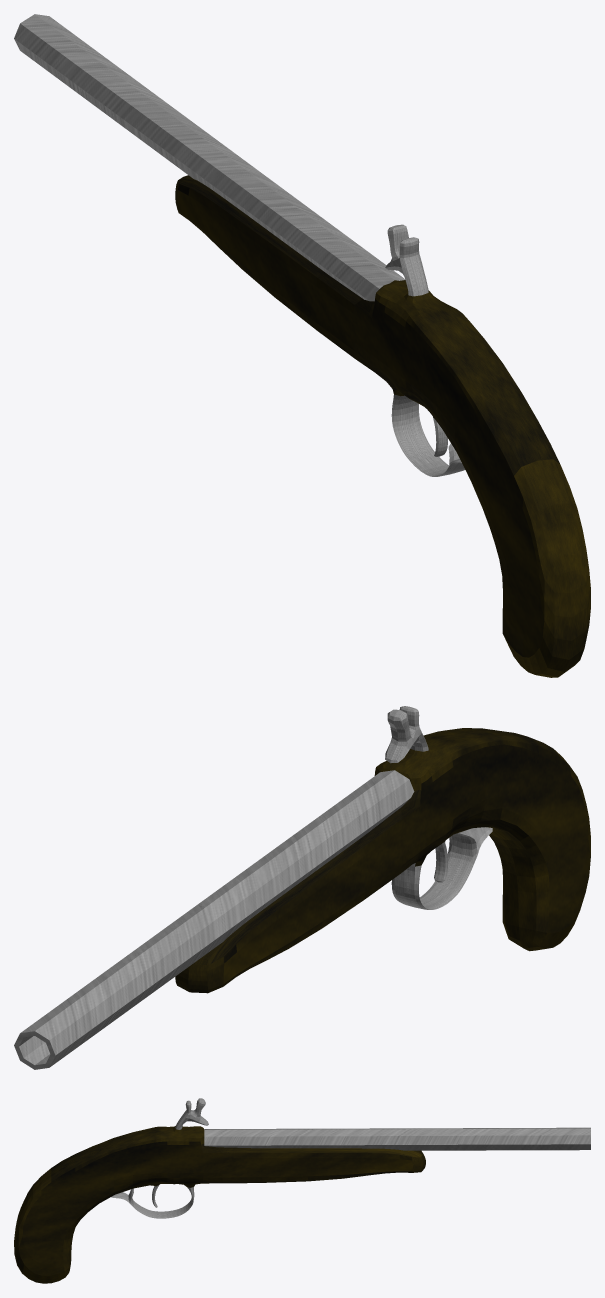
File: Flintlockwood.fbx
The picture shows the model from 3 angles, top to bottom: view 1: azimuth 30°, elevation 25°; view 2: azimuth 150°, elevation 25°; view 3: azimuth 270°, elevation 25°; orthographic projection. The views are drawn at different scales.
Parts seen in each view (by area): view 1: Cube; view 2: Cube; view 3: Cube.
Boxes of the visible parts, x1=… form: Cube: x1=14, y1=14, x2=590, y2=677; Cube: x1=14, y1=706, x2=590, y2=1069; Cube: x1=14, y1=1098, x2=590, y2=1283.
Bounding box in the file's own units: 5.35 × 35.98 × 102.
